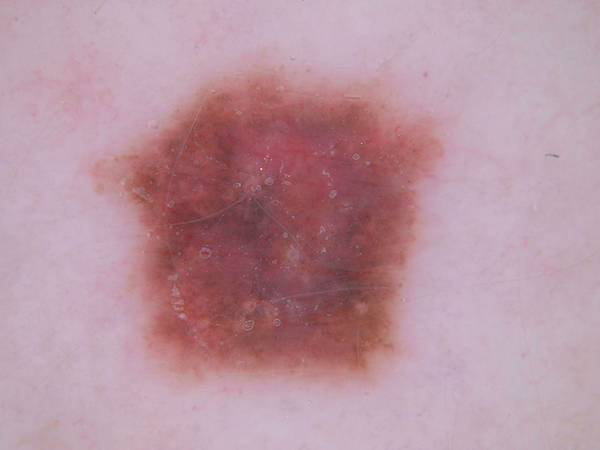Detected Lesion: (92, 81, 430, 384)
